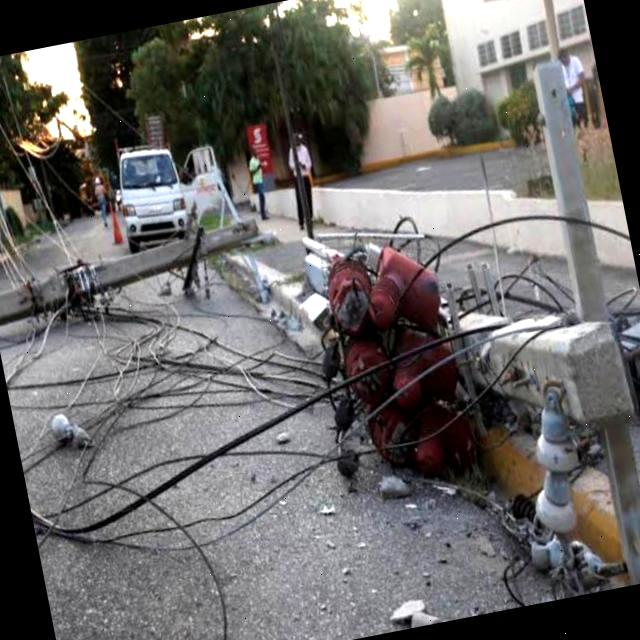Broken Pole: (301, 68, 640, 583), (0, 166, 270, 328)
